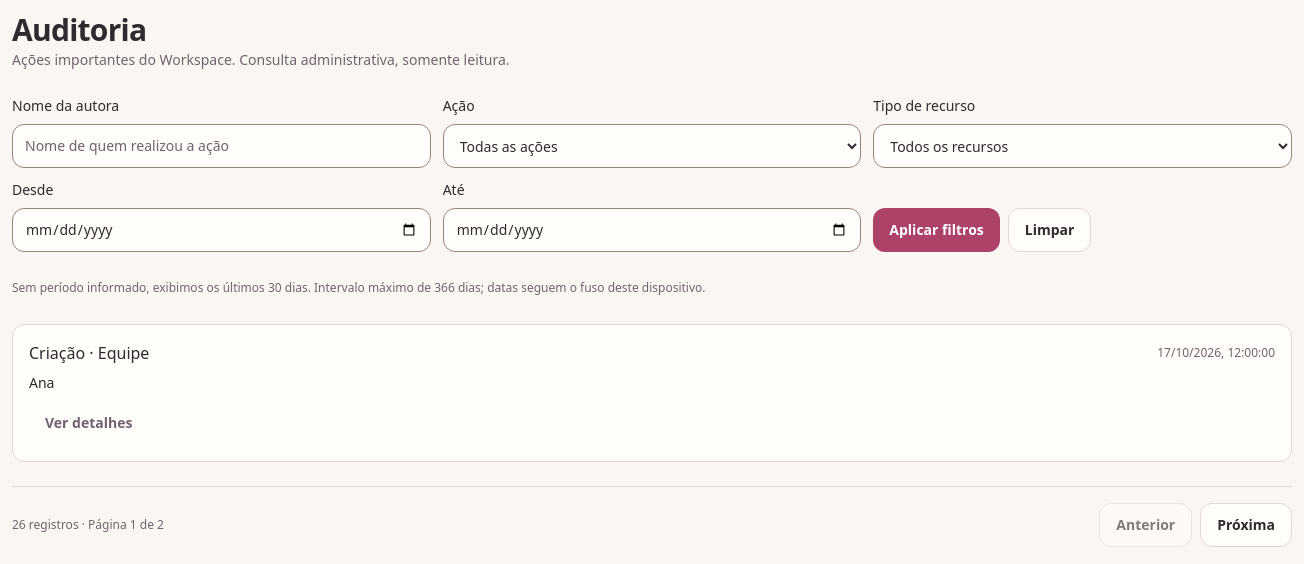
Scenario: detalhe inexistente limpa conteúdo anterior
Click the button with aria-label "Detalhes de".
click(89, 423)  # box [29,401,148,445]
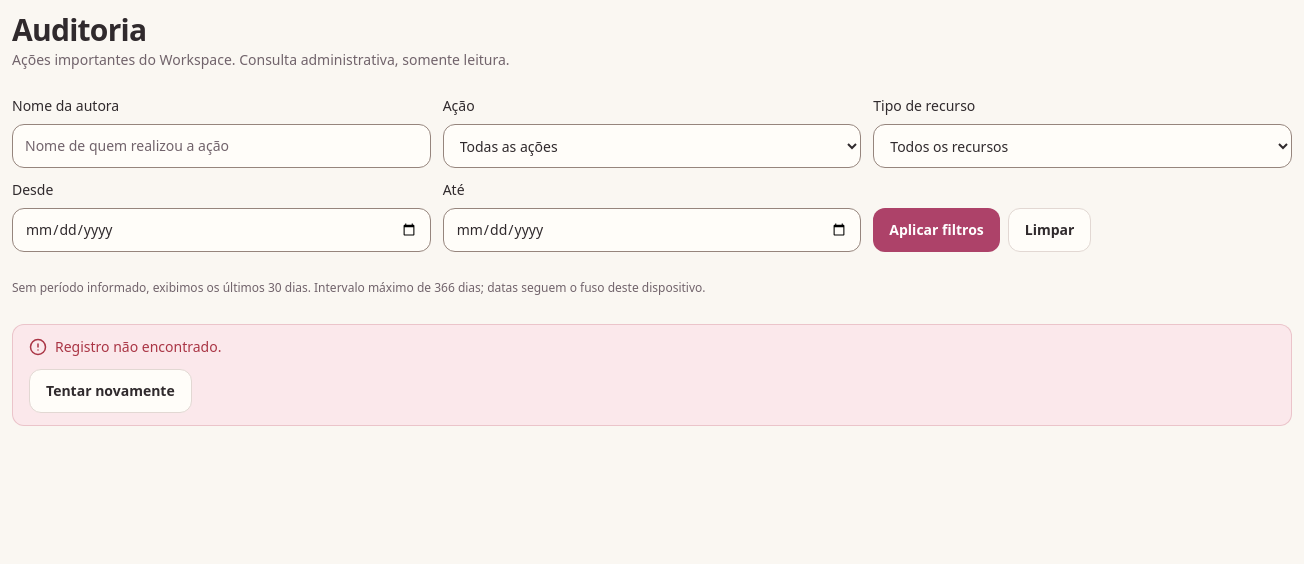
Now the text "Registro não encontrado." is shown, box [29,337,222,356]
Now the text "Ana" is gone
